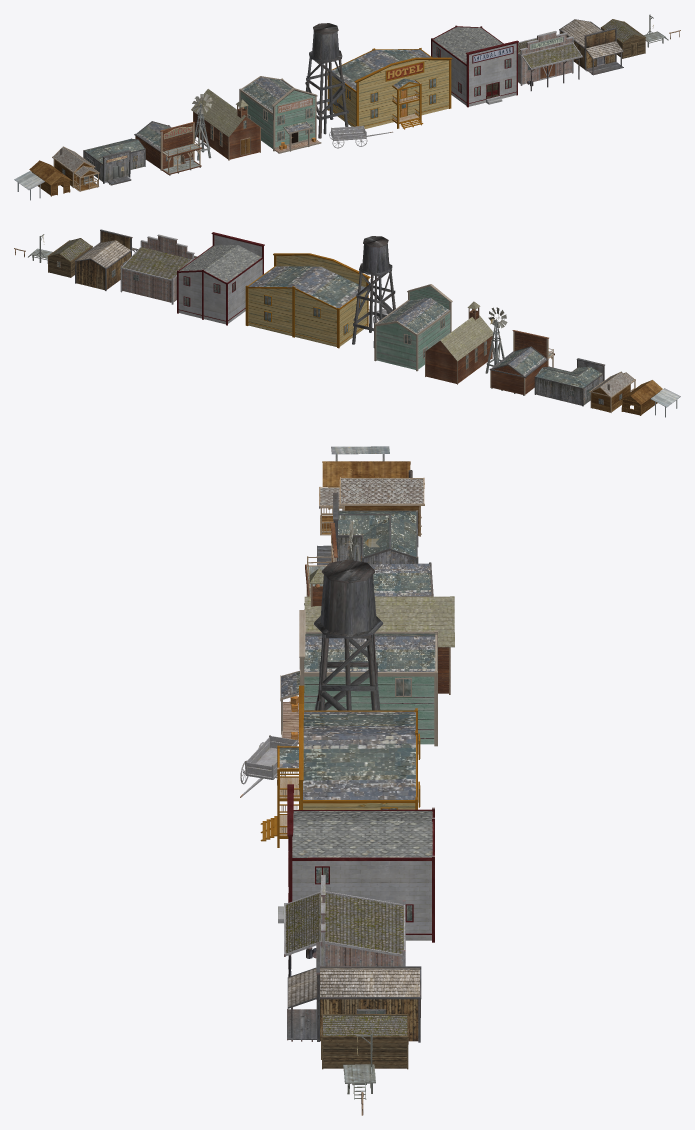
File: Westen building pack.fbx
3 renders of one model, top to bottom at view 1: azimuth 30°, elevation 25°; view 2: azimuth 150°, elevation 25°; view 3: azimuth 270°, elevation 25°, orthographic. The views are drawn at different scales.
Parts seen in each view (by area): view 1: Cube.002, Cube.003, Cube.001, Cube, Cube.006, Cylinder, Cube.004, Cube.007, Cube.005, Cube.009, Cube.008, Cube.010 (+3 smaller); view 2: Cube.002, Cube.003, Cube.001, Cube.006, Cube, Cube.004, Cylinder, Cube.007, Cube.005, Cube.009, Cube.008, Cube.010 (+2 smaller); view 3: Cube.003, Cube.002, Cube.001, Cube.006, Cube.007, Cylinder, Cube.008, Cube.005, Cube, Cube.009, Cube.004, Cube.010 (+1 smaller).
Part boxes in pixels (x1=…): Cube.002: x1=327, y1=48, x2=452, y2=129; Cube.003: x1=431, y1=25, x2=518, y2=107; Cube.001: x1=239, y1=76, x2=321, y2=153; Cube: x1=191, y1=89, x2=262, y2=160; Cube.006: x1=518, y1=31, x2=582, y2=91; Cylinder: x1=305, y1=23, x2=348, y2=138; Cube.004: x1=134, y1=121, x2=201, y2=175; Cube.007: x1=559, y1=19, x2=623, y2=75; Cube.005: x1=83, y1=138, x2=145, y2=185; Cube.009: x1=52, y1=146, x2=99, y2=191; Cube.008: x1=600, y1=19, x2=645, y2=58; Cube.010: x1=29, y1=160, x2=72, y2=196; Cube.002: x1=245, y1=253, x2=370, y2=348; Cube.003: x1=177, y1=232, x2=264, y2=325; Cube.001: x1=374, y1=284, x2=452, y2=371; Cube.006: x1=120, y1=234, x2=197, y2=304; Cube: x1=424, y1=301, x2=493, y2=384; Cube.004: x1=489, y1=330, x2=554, y2=395; Cylinder: x1=352, y1=236, x2=395, y2=347; Cube.007: x1=74, y1=229, x2=137, y2=290; Cube.005: x1=534, y1=358, x2=604, y2=406; Cube.009: x1=589, y1=371, x2=635, y2=412; Cube.008: x1=47, y1=238, x2=92, y2=277; Cube.010: x1=619, y1=380, x2=662, y2=415; Cube.003: x1=278, y1=784, x2=434, y2=942; Cube.002: x1=260, y1=685, x2=420, y2=847; Cube.001: x1=280, y1=610, x2=437, y2=746; Cube.006: x1=284, y1=875, x2=405, y2=976; Cube.007: x1=287, y1=942, x2=421, y2=1042; Cylinder: x1=314, y1=559, x2=382, y2=710; Cube.008: x1=321, y1=1014, x2=408, y2=1069; Cube.005: x1=317, y1=492, x2=418, y2=565; Cube: x1=304, y1=568, x2=454, y2=694; Cube.009: x1=319, y1=470, x2=424, y2=536; Cube.004: x1=304, y1=522, x2=433, y2=605; Cube.010: x1=322, y1=461, x2=410, y2=509.
Bounding box in the file's own units: 1571 × 241 × 222.
